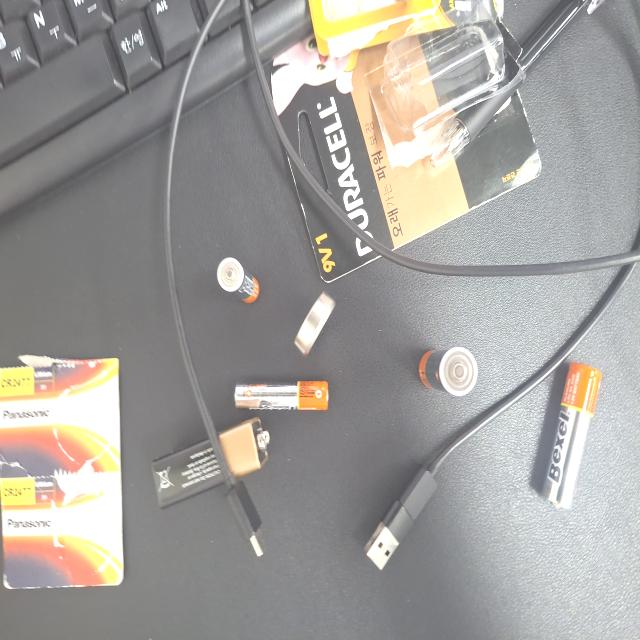9V: (313, 494, 380, 640)
AA: (270, 51, 380, 130), (256, 216, 298, 296)
AAA: (284, 413, 308, 543), (192, 506, 228, 564)
COIN: (218, 408, 266, 458)
